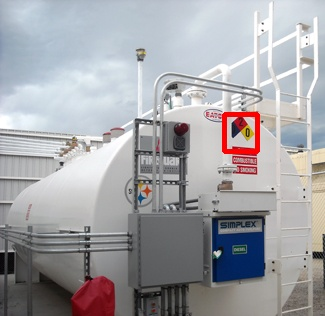nfpa: (224, 114, 257, 151)
